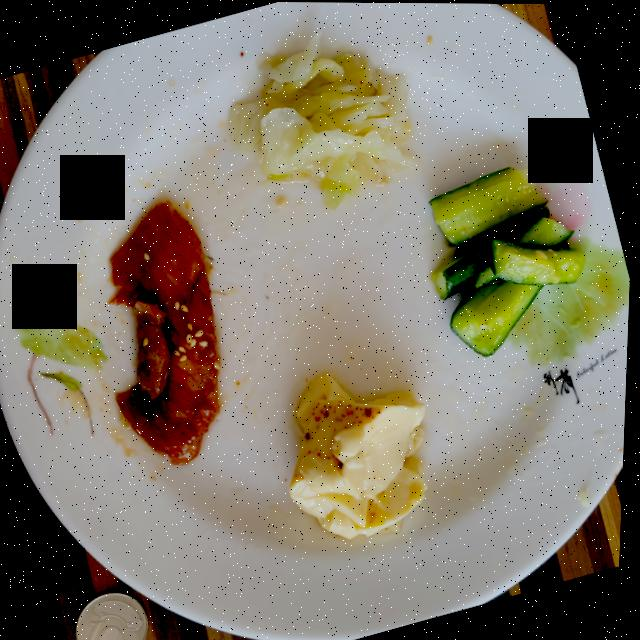Kabayaki sea bream fillet: (111, 200, 223, 465)
cabbage: (228, 33, 416, 208)
coin: (81, 592, 153, 640)
cucumber: (430, 166, 588, 354)
